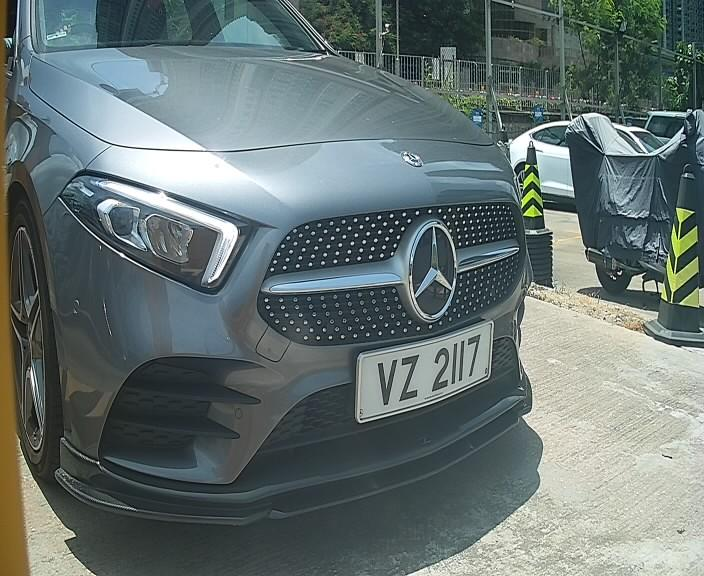Car: (1, 1, 560, 538)
License Plate: (346, 325, 488, 420)
